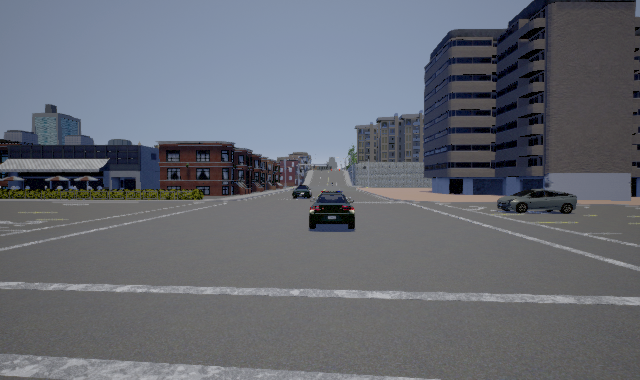vehicle: (497, 189, 577, 214), (309, 191, 355, 229), (291, 184, 312, 200)
